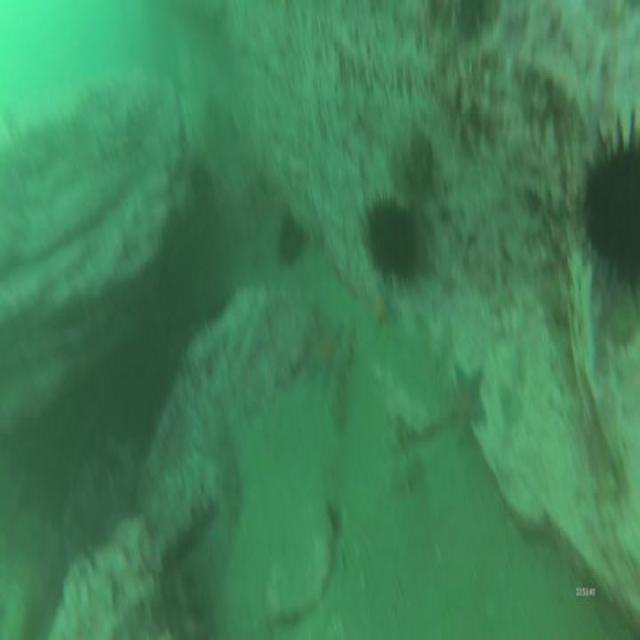echinus: (584, 139, 640, 278), (366, 202, 420, 278), (277, 215, 303, 259)
starfish: (449, 372, 486, 439), (315, 322, 342, 380), (367, 290, 396, 328)
